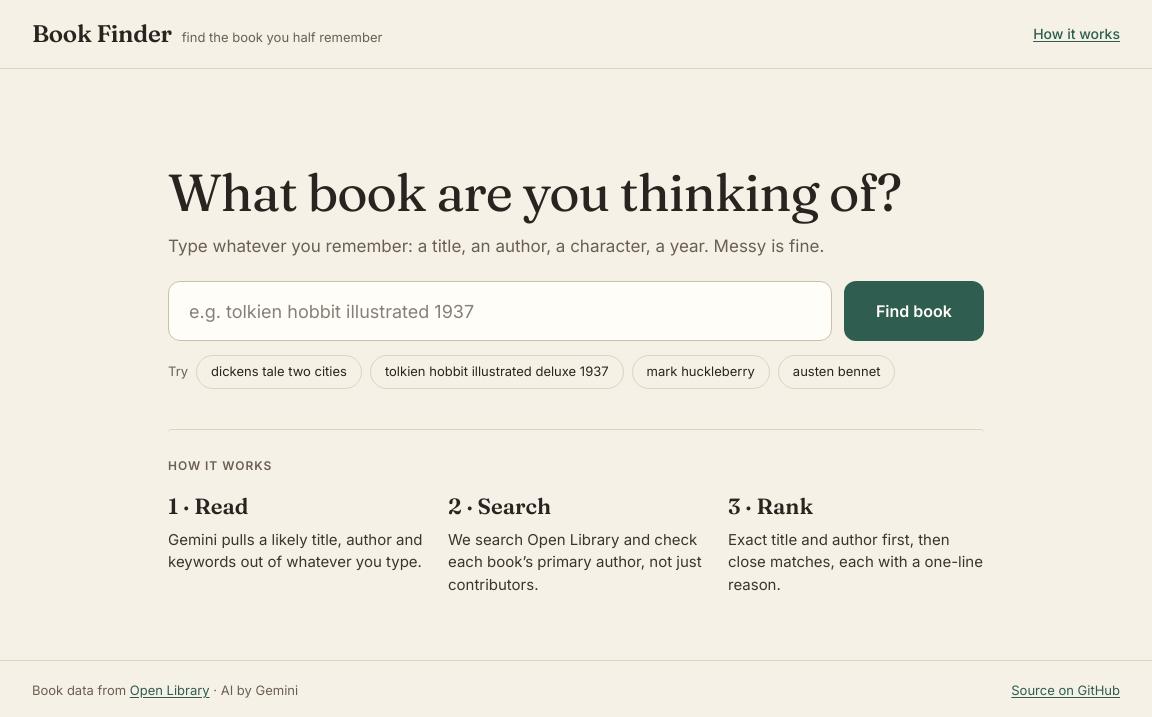
Scenario: App › shows the API’s 400 message inline
Type "x" into the search field labelled "What book are you thinking of?" at (500, 311), box [168,281,832,341]
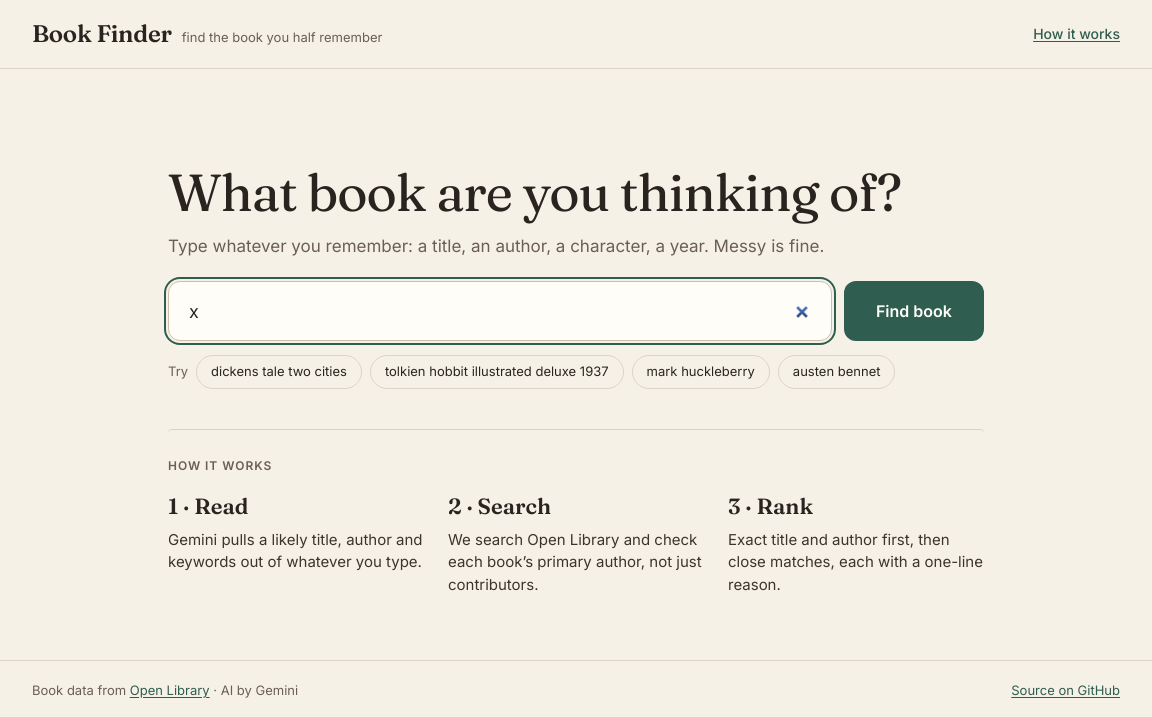
Click the button "Find book" at (914, 311), box [844,281,984,341]
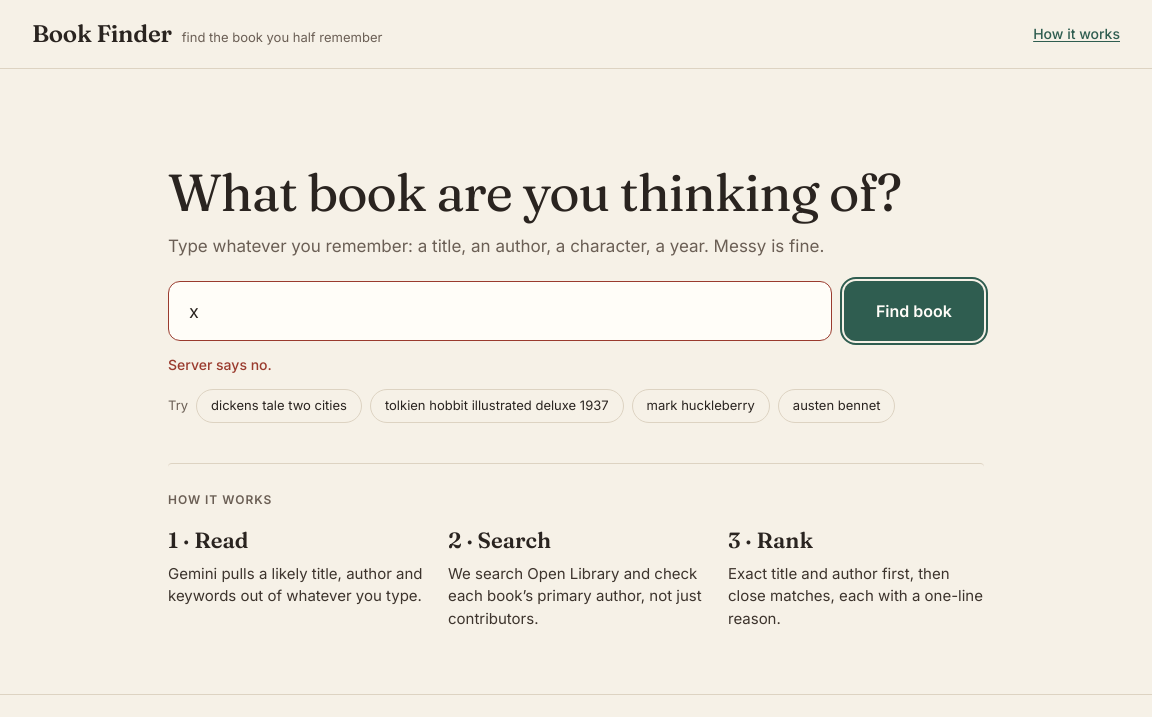
Now the message reads "Server says no.", box [168,356,272,373]
